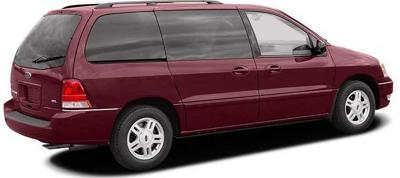back_view: (6, 44, 102, 149)
backlight: (45, 71, 95, 116)
side_glass: (156, 11, 323, 60)
